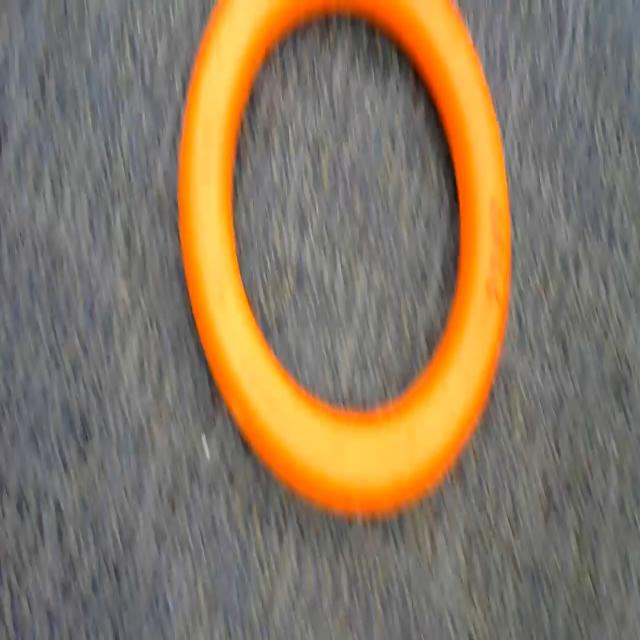note: (180, 0, 534, 537)
